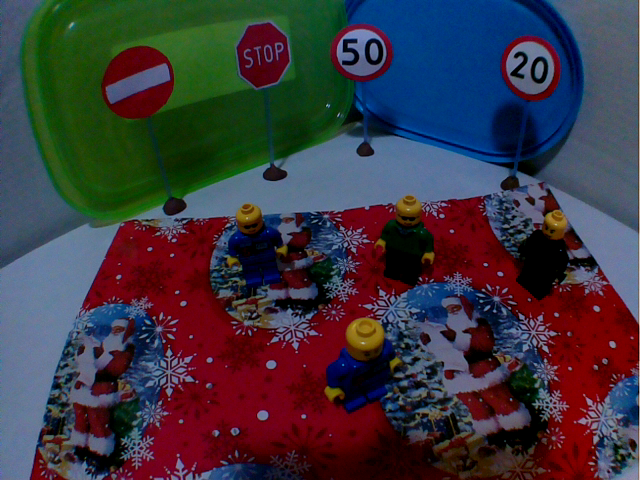Ograniczenie 20: (497, 33, 564, 103)
Ograniczenie 50: (327, 22, 397, 85)
Postac LEGO: (322, 312, 405, 419), (372, 191, 441, 289), (507, 206, 574, 306), (221, 199, 292, 291)
Stop: (232, 17, 295, 95)
Zakaz: (97, 42, 179, 123)
